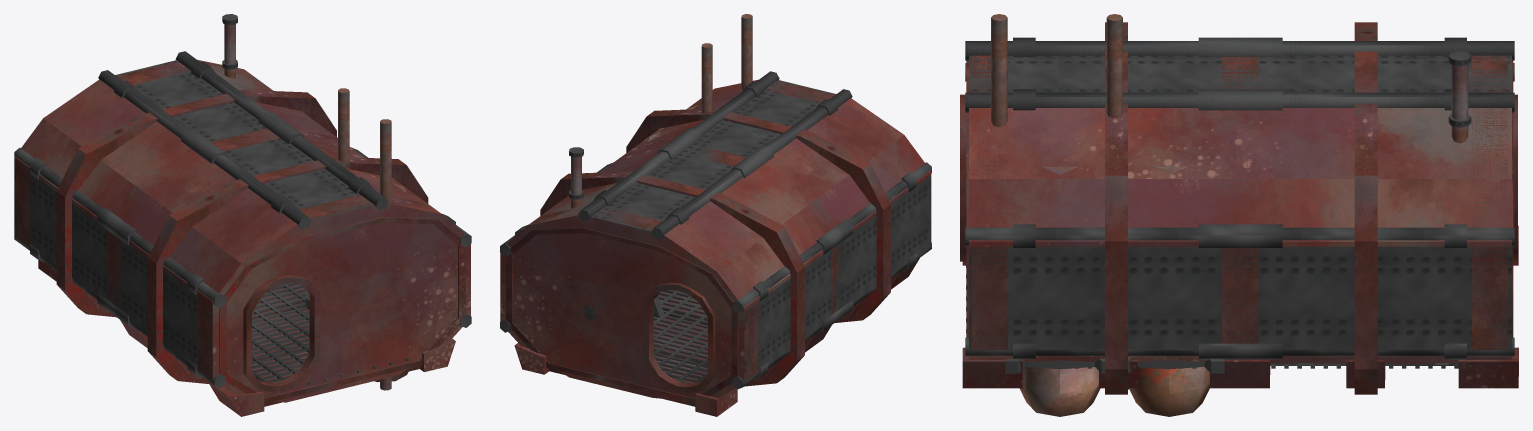
The model's file is Oxygen_Room.obj.
3 renders of one model, left to right at view 1: azimuth 30°, elevation 25°; view 2: azimuth 150°, elevation 25°; view 3: azimuth 270°, elevation 25°, orthographic. The views are drawn at different scales.
Visible parts, largest first — view 1: Cube.014; view 2: Cube.014; view 3: Cube.014.
Part boxes in pixels (x1,y1,x2,y2): Cube.014: (14,14,471,416); Cube.014: (500,14,931,416); Cube.014: (960,14,1518,416).
Bounding box in the file's own units: 6.32 × 6.03 × 8.2.
